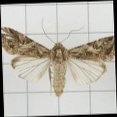Spodoptera litura: (2, 17, 115, 97)
